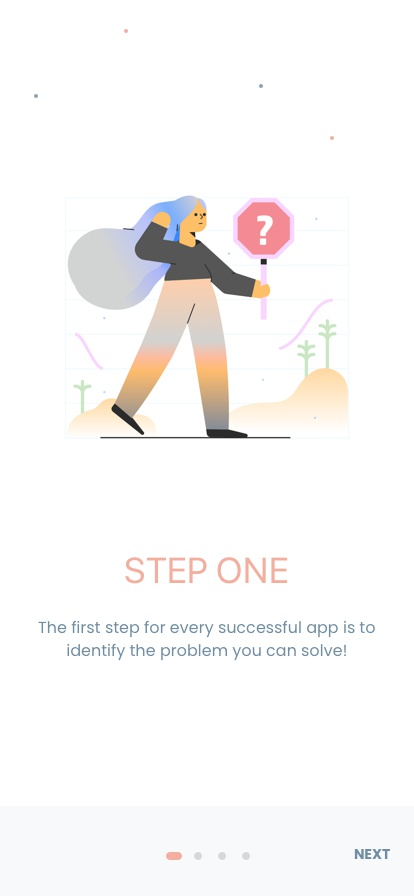Image: (64, 195, 351, 440)
PageIndicator: (166, 851, 251, 861)
Text: (39, 620, 376, 661), (125, 556, 288, 584), (354, 848, 390, 860)
